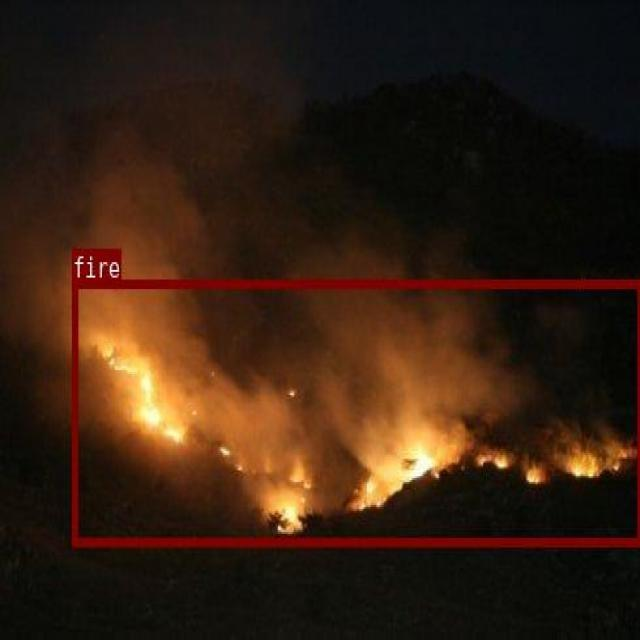fire: (72, 278, 640, 544)
